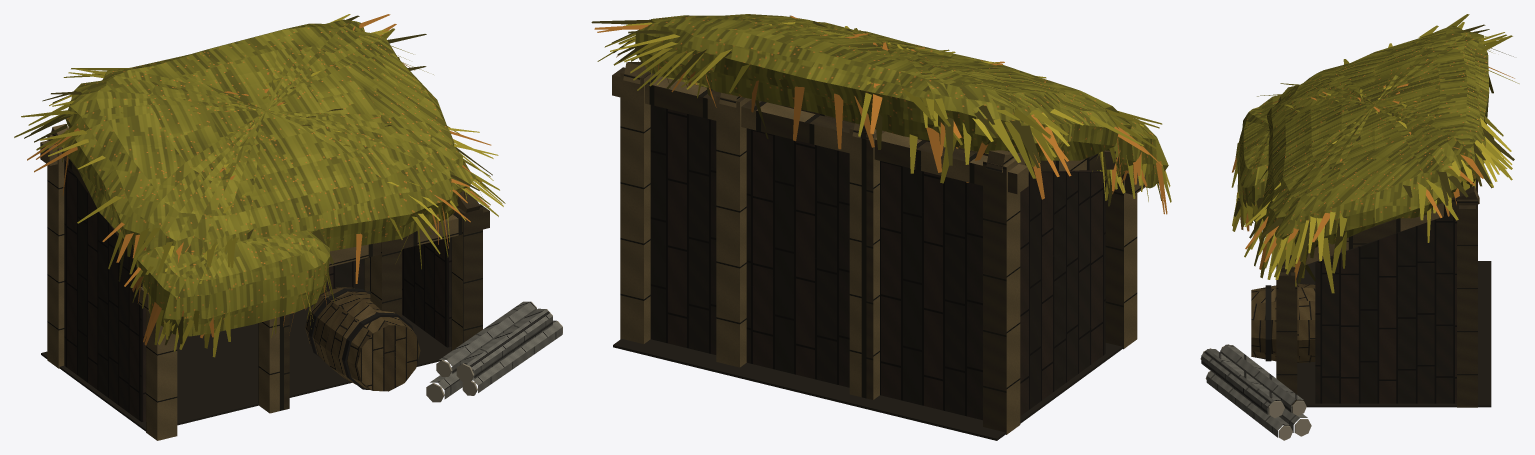
Rendered from AraHut09.glb.
3 renders of one model, left to right at view 1: azimuth 30°, elevation 25°; view 2: azimuth 150°, elevation 25°; view 3: azimuth 270°, elevation 25°, orthographic. The views are drawn at different scales.
Parts seen in each view (by area): view 1: AraHut09_post; view 2: AraHut09_post; view 3: AraHut09_post.
Part boxes in pixels (x1,y1,x2,y2): AraHut09_post: (14, 14, 562, 440); AraHut09_post: (591, 14, 1171, 440); AraHut09_post: (1200, 14, 1519, 440).
Size of the model in its own units: 5 by 2.97 by 3.36.
13 materials, 5 textured.
